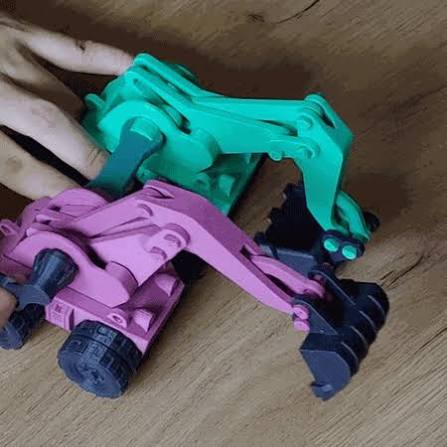3d print: (0, 116, 387, 398)
